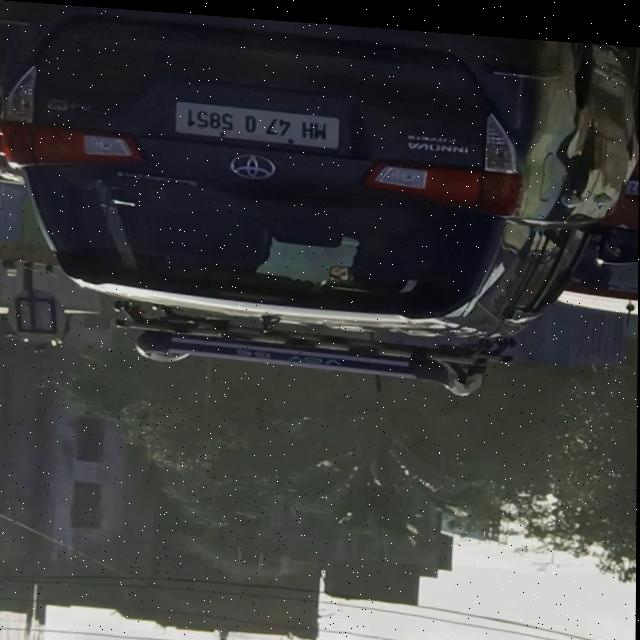plate: (174, 98, 342, 146)
